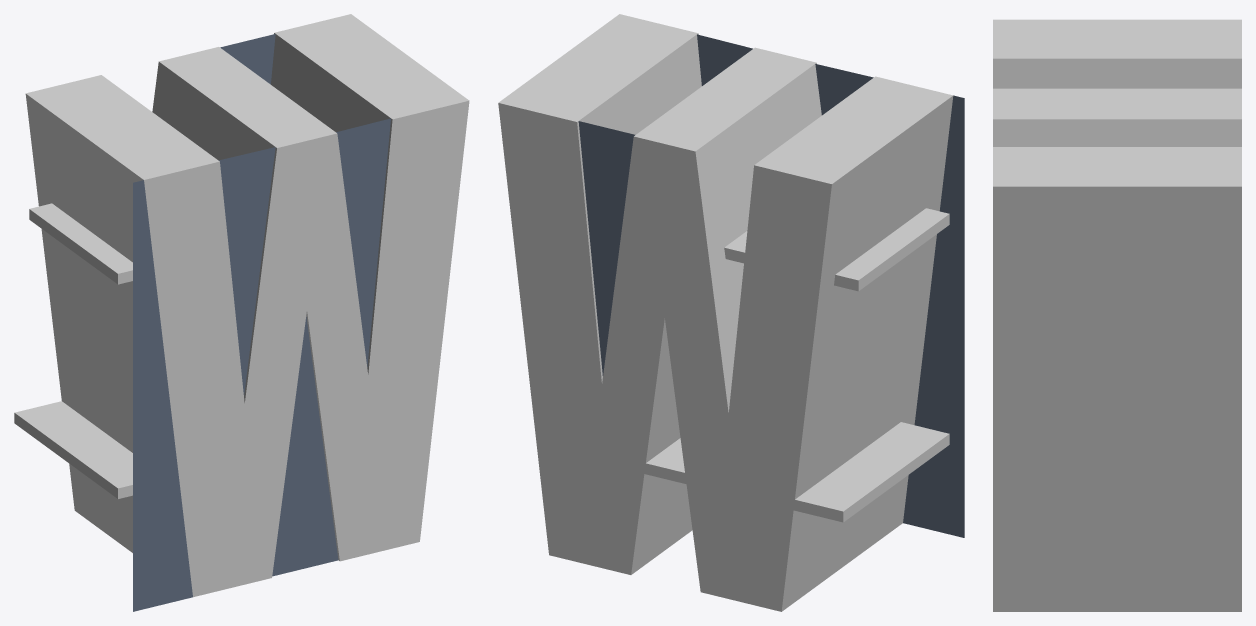
3 views of the same model, side by side, from view 1: azimuth 30°, elevation 25°; view 2: azimuth 150°, elevation 25°; view 3: azimuth 270°, elevation 25° (orthographic). The views are drawn at different scales.
Parts seen in each view (by area): view 1: group_1, group_6, group_5, group_3, group_4, group_8, group_2, group_7; view 2: group_1, group_6, group_8, group_7, group_2, group_3, group_4; view 3: group_1.
Boxes of the visible parts, left/top/right/bottom form: group_1: left=25, top=14, right=469, bottom=597; group_6: left=133, top=180, right=192, bottom=611; group_5: left=272, top=317, right=338, bottom=576; group_3: left=218, top=147, right=275, bottom=395; group_4: left=336, top=118, right=390, bottom=366; group_8: left=14, top=401, right=132, bottom=498; group_2: left=29, top=203, right=132, bottom=284; group_7: left=220, top=34, right=275, bottom=84; group_1: left=498, top=14, right=953, bottom=611; group_6: left=903, top=95, right=964, bottom=537; group_8: left=613, top=422, right=949, bottom=522; group_7: left=578, top=121, right=634, bottom=375; group_2: left=724, top=208, right=949, bottom=291; group_3: left=815, top=64, right=873, bottom=115; group_4: left=697, top=34, right=752, bottom=85; group_1: left=993, top=19, right=1241, bottom=611.
Size of the model in its own units: 13.14 by 16 by 8.
